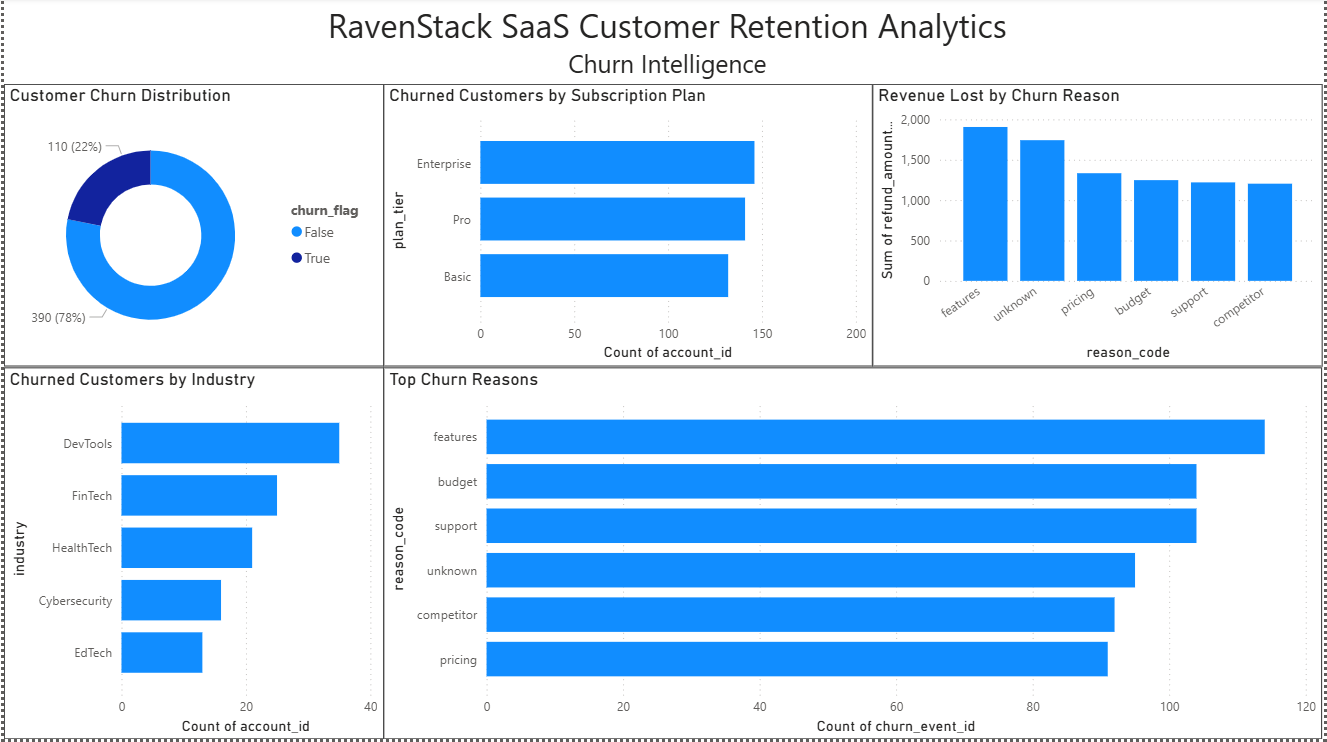

This screenshot's page, from the dashboard's own definition file:
{"tool":"powerbi","page":{"name":"Page 4","canvas":[1280,720],"ordinal":3},"visuals":[{"type":"textbox","box":[9.4,0,1269.9,85],"z":0},{"type":"donutChart","title":"Customer Churn Distribution","fields":{"Category":["ravenstack_accounts.churn_flag"],"Y":["Count(ravenstack_accounts.account_id)"]},"box":[0,85,368.5,274],"z":1},{"type":"clusteredBarChart","title":"Churned Customers by Industry","fields":{"Category":["ravenstack_accounts.industry"],"Y":["Count(ravenstack_accounts.account_id)"]},"box":[0,359.1,368.5,360.9],"z":2},{"type":"clusteredBarChart","title":"Churned Customers by Subscription Plan","fields":{"Category":["ravenstack_subscriptions.plan_tier"],"Y":["Count(ravenstack_subscriptions.account_id)"]},"box":[368.5,85,474.3,274],"z":3},{"type":"clusteredBarChart","title":"Top Churn Reasons","fields":{"Category":["ravenstack_churn_events.reason_code"],"Y":["Count(ravenstack_churn_events.churn_event_id)"]},"box":[368.5,359.1,910.9,360.9],"z":4},{"type":"clusteredColumnChart","title":"Revenue Lost by Churn Reason","fields":{"Category":["ravenstack_churn_events.reason_code"],"Y":["Sum(ravenstack_churn_events.refund_amount_usd)"]},"box":[842.8,85,436.5,274],"z":5}]}

Visuals, with their boxes in screenshot pixels (x1, y1, x2, y2), scaled from the page's 1280x720 canvas onto the 1327x742 screenshot:
textbox: (10,0,1326,88)
"Customer Churn Distribution" donutChart: (0,88,382,370)
"Churned Customers by Industry" clusteredBarChart: (0,370,382,741)
"Churned Customers by Subscription Plan" clusteredBarChart: (382,88,874,370)
"Top Churn Reasons" clusteredBarChart: (382,370,1326,741)
"Revenue Lost by Churn Reason" clusteredColumnChart: (874,88,1326,370)
